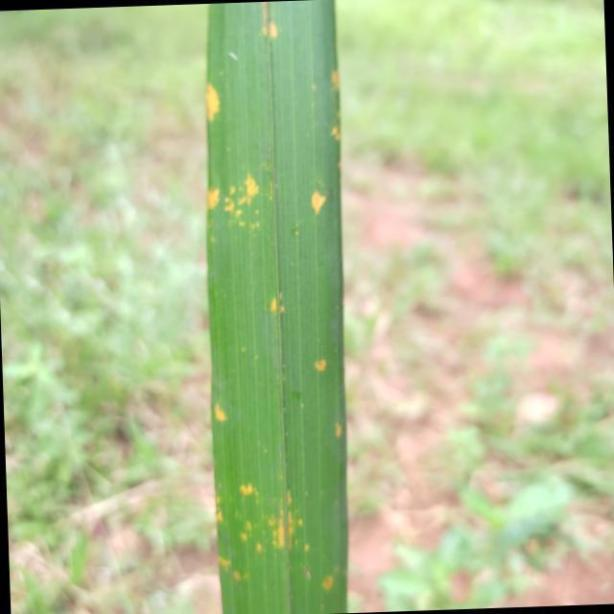Kalium: (204, 0, 351, 614)
